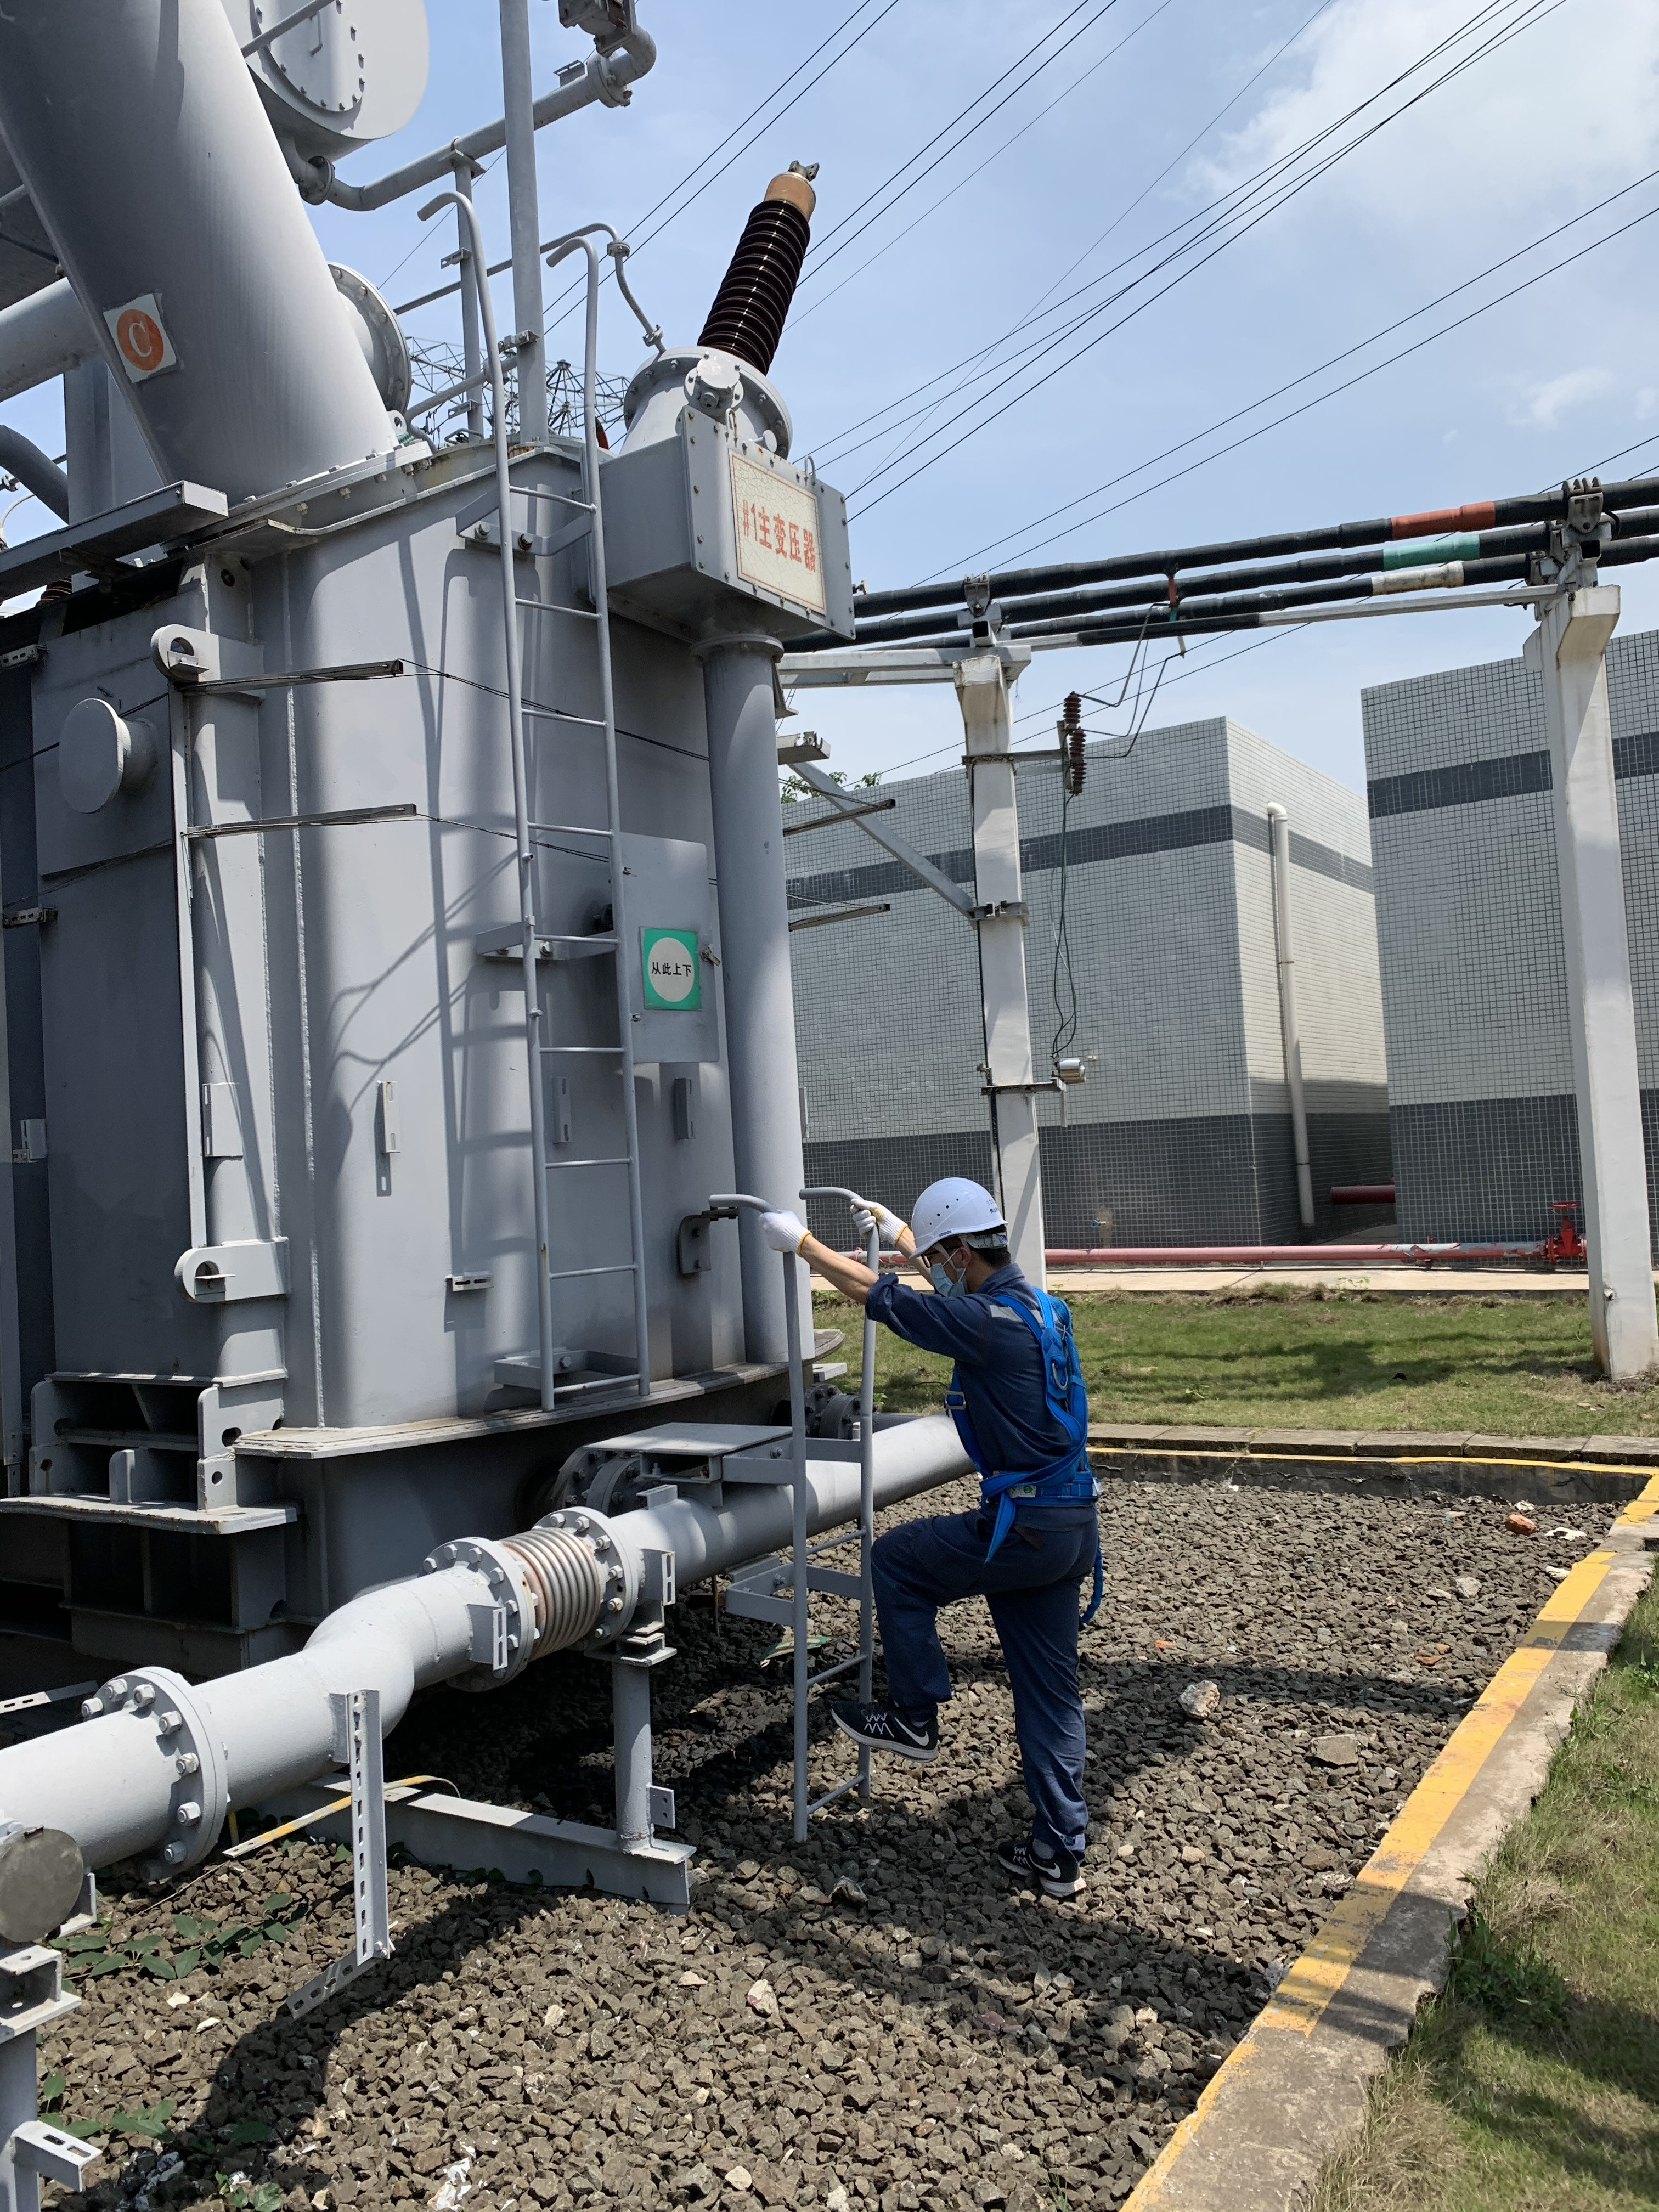downsuit: (863, 1496, 1101, 1853)
upsuit: (863, 1271, 1093, 1493)
wrongtop: (775, 1204, 904, 1310)
